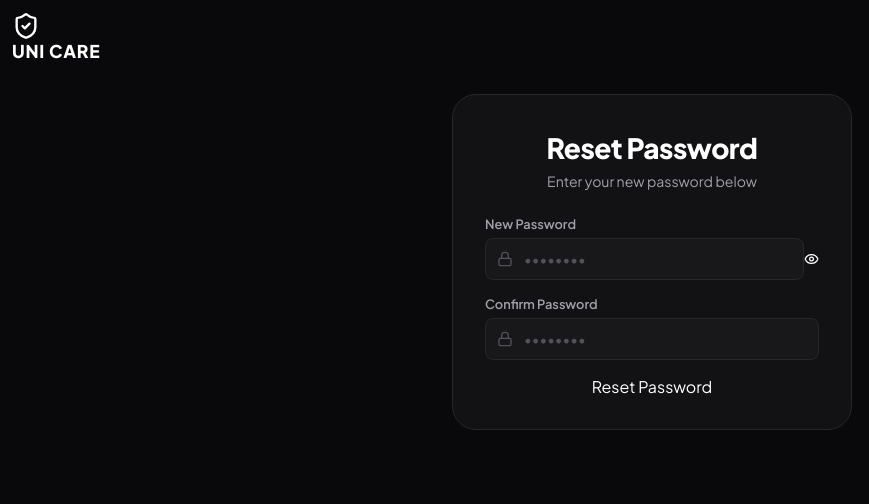
ResetPasswordPage › shows error if passwords do not match
This screenshot has width=869, height=504.
Type "password123" into the 1st password field with placeholder "••••••••".
click(644, 259); type("password123")  # box [485, 238, 804, 280]
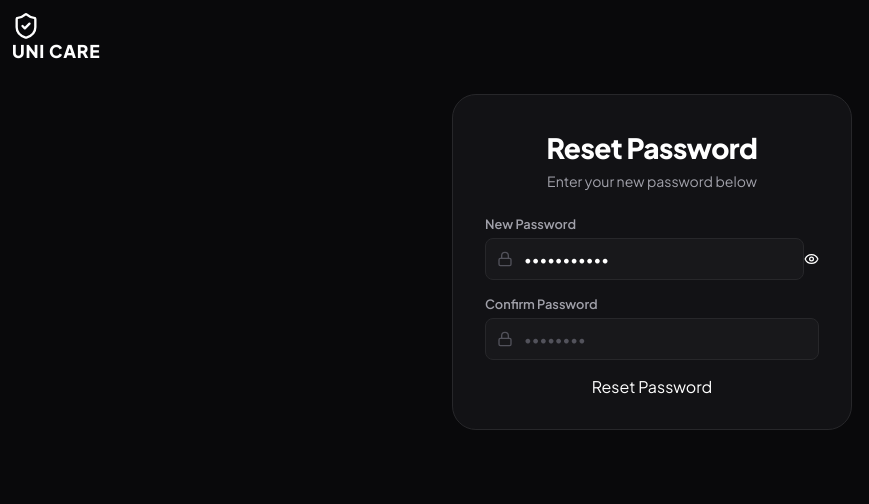
Type "password456" into the password field with placeholder "••••••••".
click(652, 339); type("password456")  # box [485, 318, 819, 360]
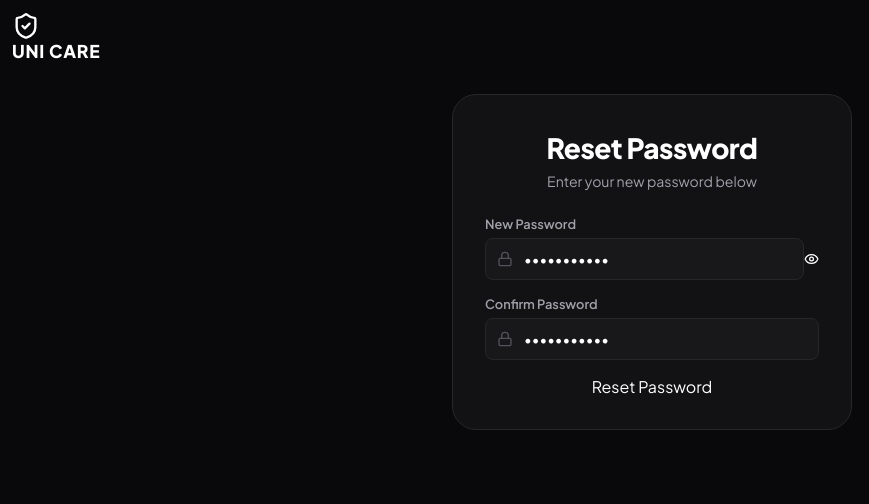
Click the button "Reset Password".
click(652, 386)  # box [485, 376, 819, 397]
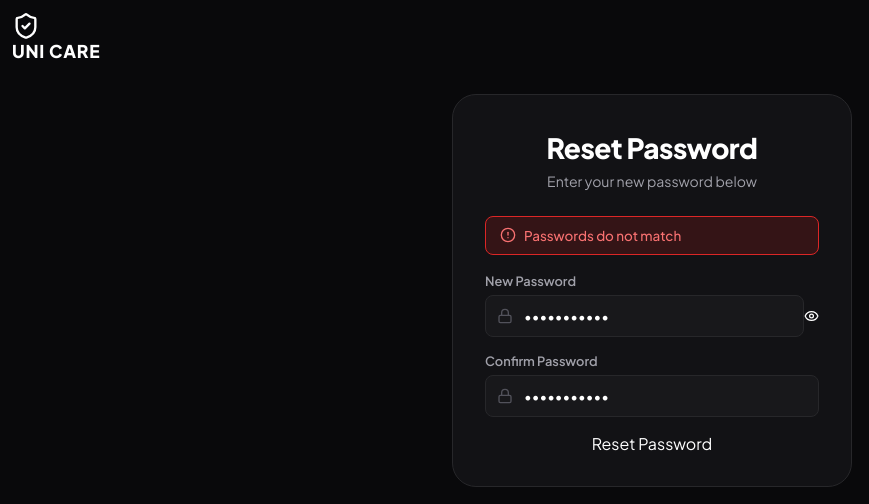
expect the text "Passwords do not match" is shown: met, box [524, 227, 681, 244]
